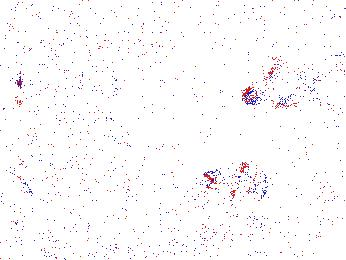flame jellyfish: (203, 162, 269, 208), (241, 63, 308, 107), (1, 172, 36, 237)
